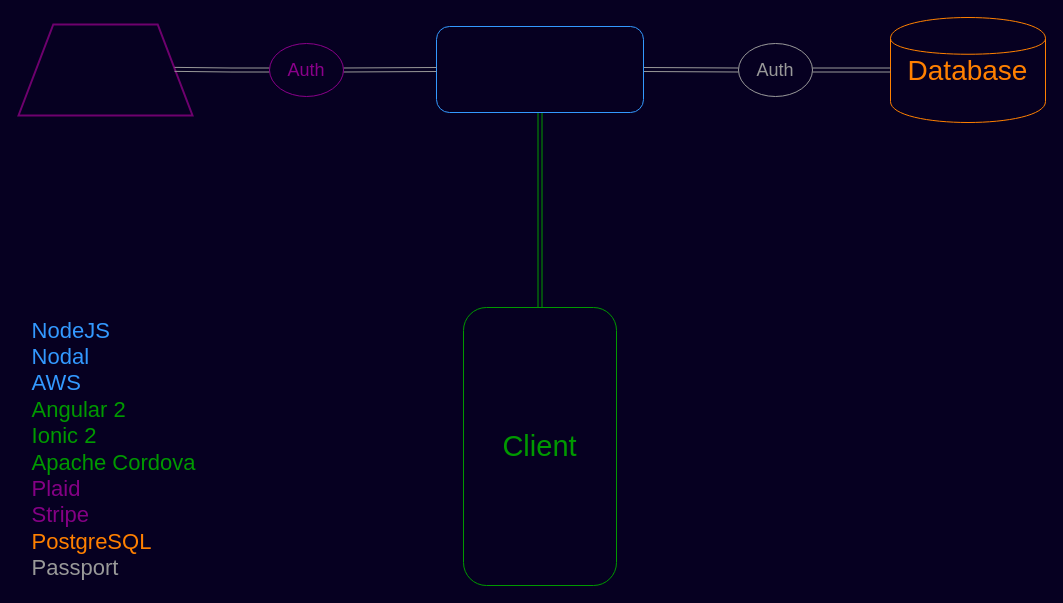
Some shapes in this 1063 by 603 pixel diagram are drawn without their labels. Each missing label, with the box of its shape:
Bank API: (17, 23, 193, 116)
Server: (436, 26, 644, 112)
